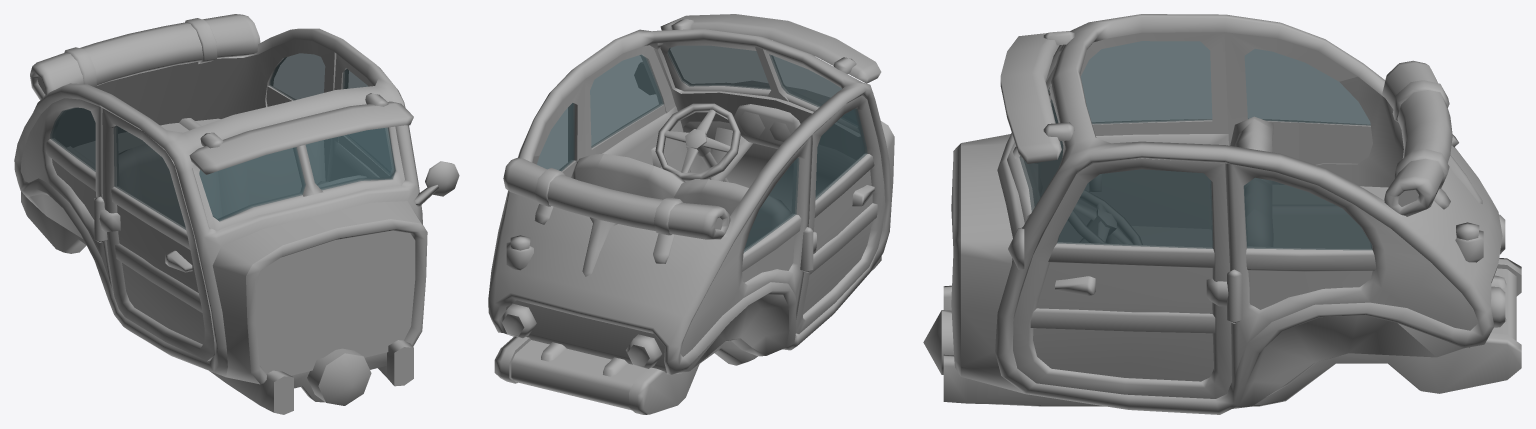
File: Body_Woodster_No_Roof.fbx
The picture shows the model from 3 angles, left to right: view 1: azimuth 30°, elevation 25°; view 2: azimuth 150°, elevation 25°; view 3: azimuth 270°, elevation 25°; orthographic projection. The views are drawn at different scales.
Visible parts, largest first — view 1: Woodster_Body_Mesh, Woodster_Door_Right_Mesh, Woodster_Body_Window_Mesh, Woodster_Roof_Folded_Mesh, Woodster_Body_Cap_Mesh, Woodster_Door_Right_Window_Mesh, Woodster_Door_Left_Mesh, Woodster_Door_Left_Window_Mesh; view 2: Woodster_Body_Mesh, Woodster_Door_Right_Mesh, Woodster_Body_Window_Mesh, Woodster_Roof_Folded_Mesh, Woodster_Door_Left_Mesh, Woodster_Body_Cap_Mesh, Woodster_Door_Left_Window_Mesh, Body_SteerWheel_Mesh, Woodster_Door_Right_Window_Mesh; view 3: Woodster_Body_Mesh, Woodster_Door_Left_Mesh, Woodster_Body_Window_Mesh, Woodster_Door_Right_Mesh, Woodster_Door_Left_Window_Mesh, Woodster_Door_Right_Window_Mesh, Woodster_Roof_Folded_Mesh, Woodster_Body_Cap_Mesh, Body_SteerWheel_Mesh.
Part boxes in pixels (x1=…): Woodster_Body_Mesh: x1=14, y1=28, x2=459, y2=414; Woodster_Door_Right_Mesh: x1=99, y1=108, x2=214, y2=361; Woodster_Body_Window_Mesh: x1=50, y1=53, x2=395, y2=221; Woodster_Roof_Folded_Mesh: x1=30, y1=14, x2=260, y2=100; Woodster_Body_Cap_Mesh: x1=189, y1=93, x2=413, y2=174; Woodster_Door_Right_Window_Mesh: x1=113, y1=125, x2=185, y2=229; Woodster_Door_Left_Mesh: x1=327, y1=54, x2=389, y2=181; Woodster_Door_Left_Window_Mesh: x1=342, y1=68, x2=391, y2=172; Woodster_Body_Mesh: x1=488, y1=29, x2=894, y2=414; Woodster_Door_Right_Mesh: x1=796, y1=95, x2=885, y2=334; Woodster_Body_Window_Mesh: x1=537, y1=45, x2=857, y2=252; Woodster_Roof_Folded_Mesh: x1=503, y1=158, x2=730, y2=263; Woodster_Door_Left_Mesh: x1=585, y1=45, x2=690, y2=181; Woodster_Body_Cap_Mesh: x1=660, y1=14, x2=881, y2=83; Woodster_Door_Left_Window_Mesh: x1=590, y1=54, x2=663, y2=147; Body_SteerWheel_Mesh: x1=655, y1=103, x2=740, y2=182; Woodster_Door_Right_Window_Mesh: x1=815, y1=108, x2=867, y2=200; Woodster_Body_Mesh: x1=923, y1=14, x2=1521, y2=414; Woodster_Door_Left_Mesh: x1=1013, y1=158, x2=1231, y2=398; Woodster_Body_Window_Mesh: x1=1019, y1=48, x2=1372, y2=250; Woodster_Door_Right_Mesh: x1=1035, y1=32, x2=1228, y2=242; Woodster_Door_Left_Window_Mesh: x1=1057, y1=169, x2=1213, y2=248; Woodster_Door_Right_Window_Mesh: x1=1081, y1=41, x2=1212, y2=124; Woodster_Roof_Folded_Mesh: x1=1382, y1=60, x2=1458, y2=216; Woodster_Body_Cap_Mesh: x1=1000, y1=31, x2=1074, y2=163; Body_SteerWheel_Mesh: x1=1068, y1=190, x2=1142, y2=244.
Bounding box in the file's own units: 175 × 163 × 284.
